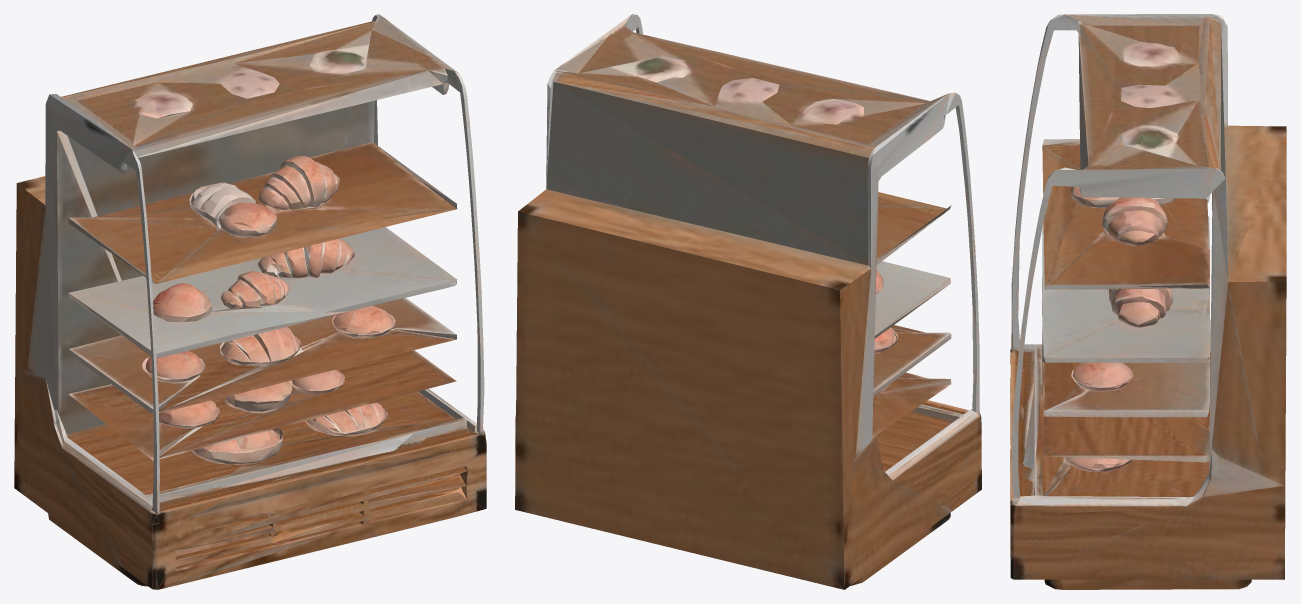
File: pastry_case.glb
3 renders of one model, left to right at view 1: azimuth 30°, elevation 25°; view 2: azimuth 150°, elevation 25°; view 3: azimuth 270°, elevation 25°, orthographic. The views are drawn at different scales.
Size of the model in its own units: 1.53 by 1.9 by 1.12.
Materials: 1 (1 with a texture image).
